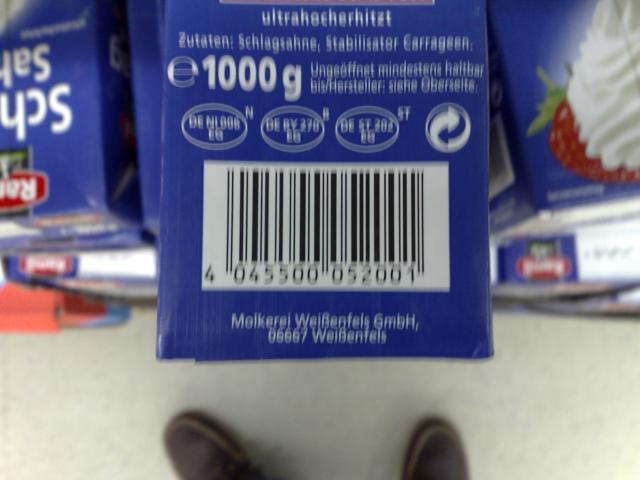Barcode: (201, 159, 453, 290)
